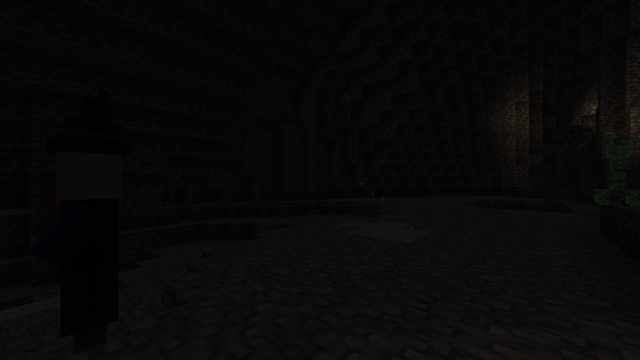creepers: (595, 132, 637, 206)
sorcieres: (44, 141, 133, 358)
